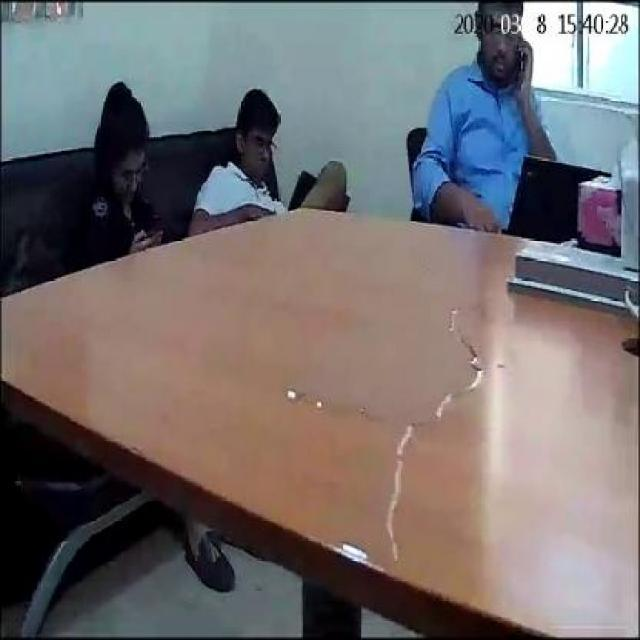spill: (294, 294, 484, 560)
